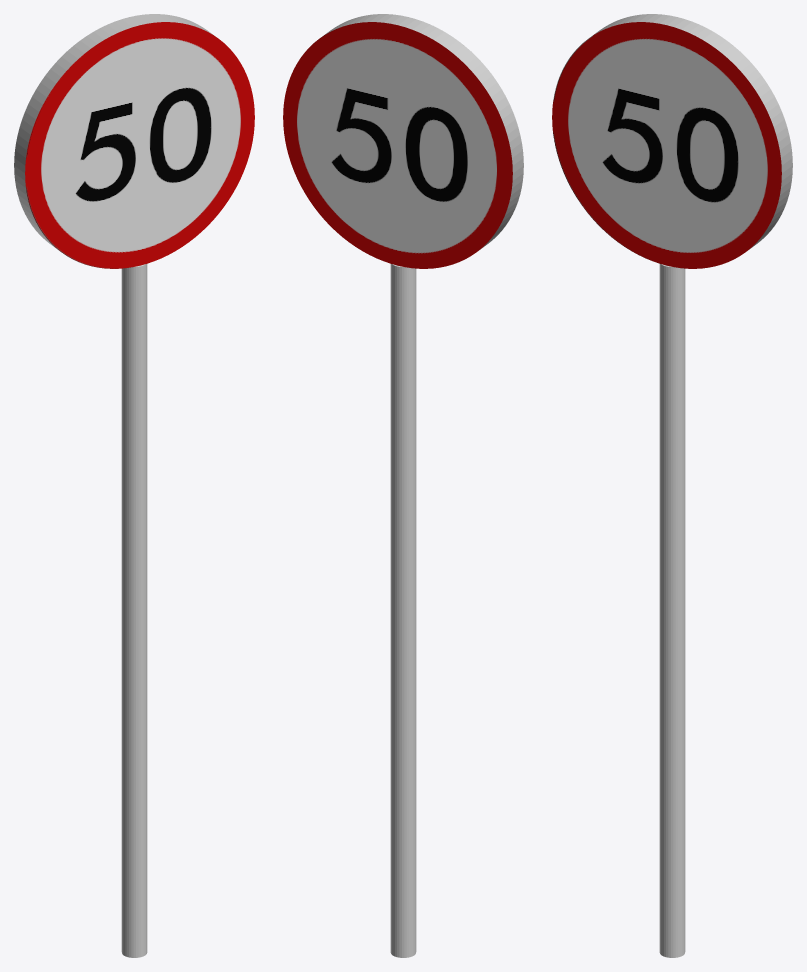
The model's file is speed_limit_50.dae.
The picture shows the model from 3 angles, left to right: view 1: azimuth 30°, elevation 25°; view 2: azimuth 150°, elevation 25°; view 3: azimuth 330°, elevation 25°; orthographic projection.
Visible parts, largest first — view 1: Speed_Limit_50, Speed_Limit_50_Pole; view 2: Speed_Limit_50, Speed_Limit_50_Pole; view 3: Speed_Limit_50, Speed_Limit_50_Pole.
Boxes of the visible parts, x1,y1,x2,y2 form: Speed_Limit_50: (14,14,254,268); Speed_Limit_50_Pole: (121,264,147,957); Speed_Limit_50: (283,14,523,268); Speed_Limit_50_Pole: (390,264,416,957); Speed_Limit_50: (552,14,792,268); Speed_Limit_50_Pole: (659,264,685,957).
Bounding box in the file's own units: 0.8353 × 0.08 × 3.24.
Materials: 1 (1 with a texture image).
